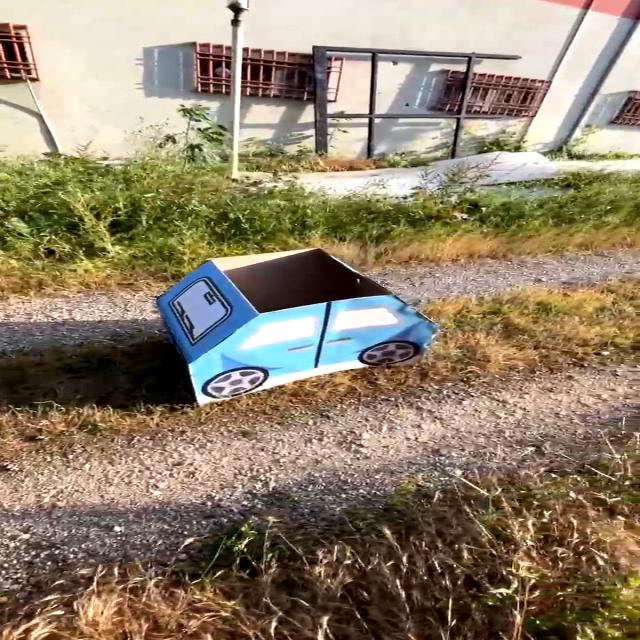blue_car: (85, 248, 489, 418)
